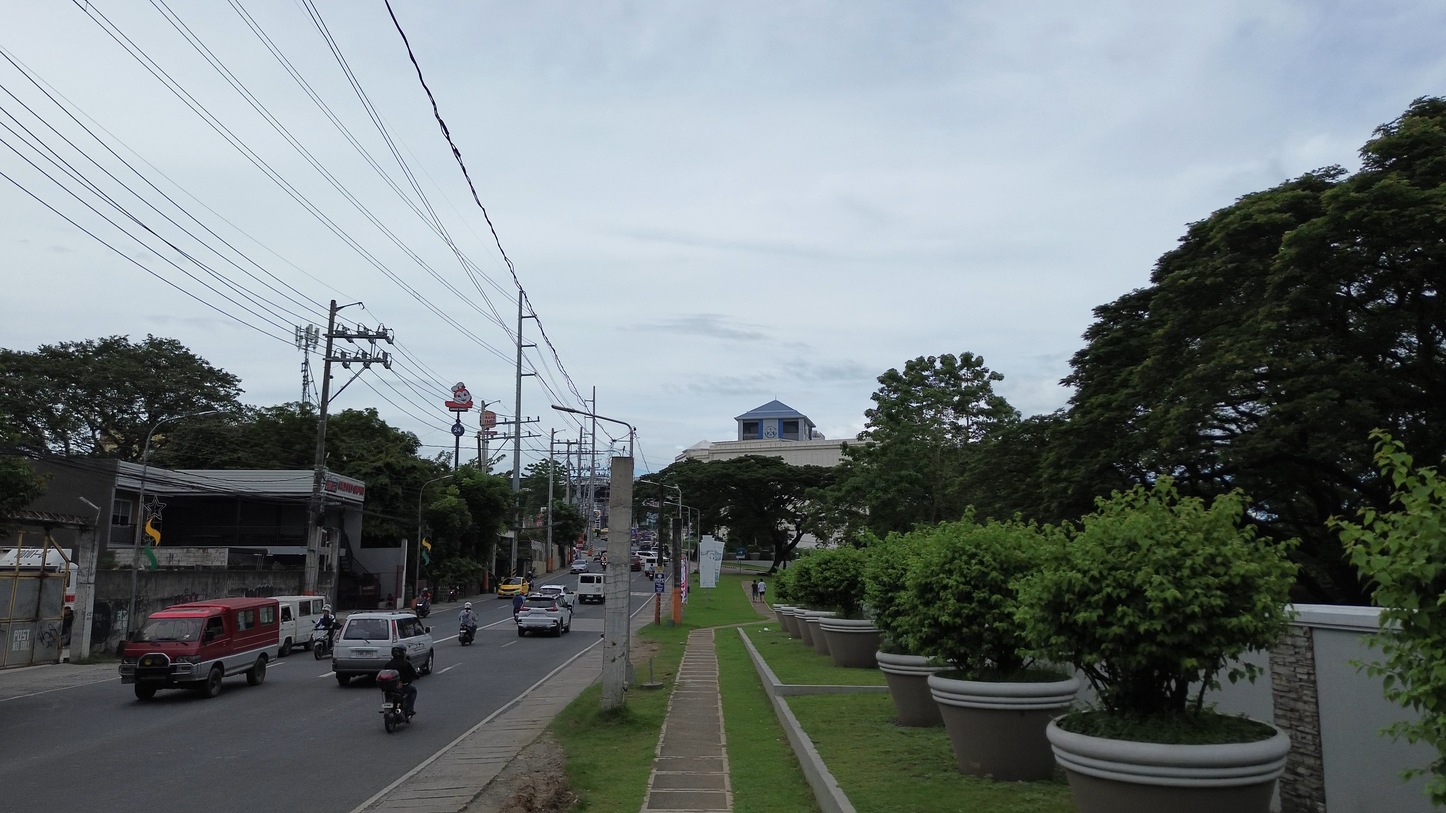motorcycle: (376, 669, 412, 733), (312, 630, 333, 660), (458, 625, 476, 645)
vehicle: (119, 598, 280, 699), (332, 611, 434, 685), (274, 595, 325, 656), (517, 593, 571, 636), (538, 584, 576, 607), (311, 630, 339, 660), (577, 573, 604, 603), (496, 577, 530, 598), (571, 558, 589, 574), (630, 554, 642, 571)
